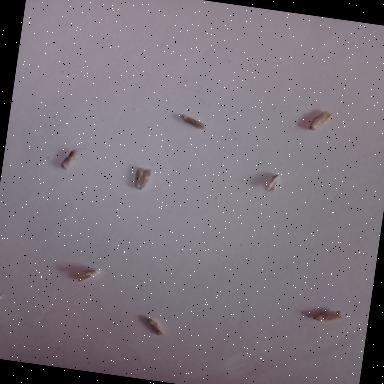pbw: (307, 107, 334, 133), (59, 146, 82, 172), (312, 306, 344, 324), (69, 266, 99, 284), (177, 112, 206, 129), (132, 166, 151, 190), (144, 318, 164, 336), (264, 172, 280, 192)
